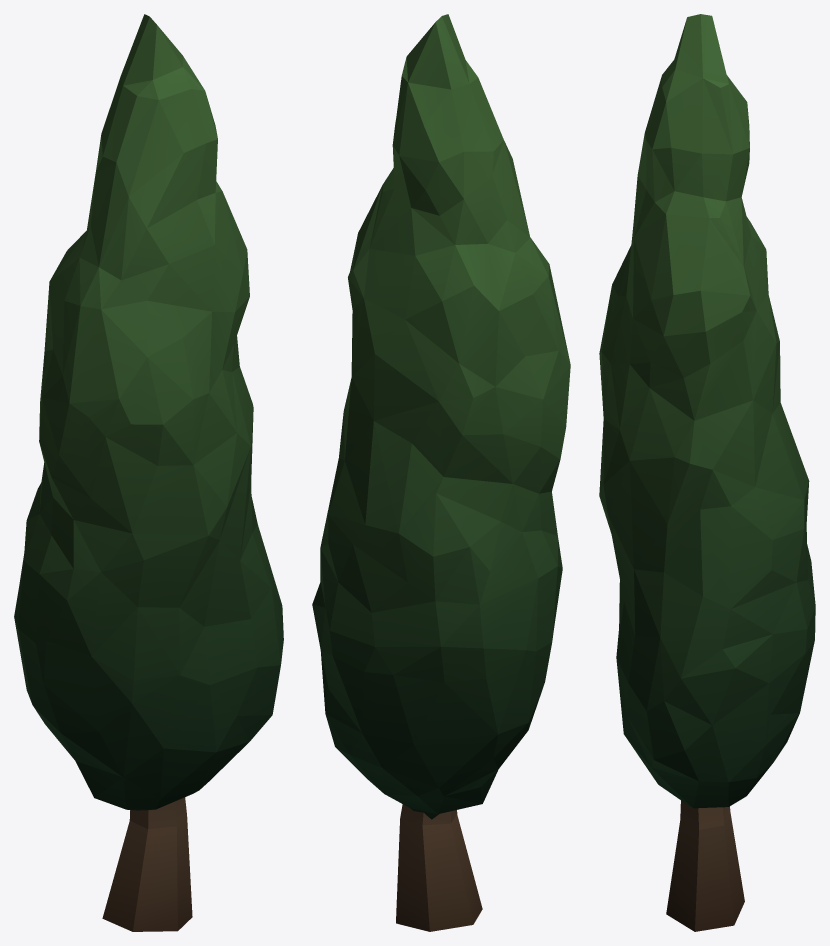
The model's file is cyprys_2.glb.
3 views of the same model, side by side, from view 1: azimuth 30°, elevation 25°; view 2: azimuth 150°, elevation 25°; view 3: azimuth 270°, elevation 25° (orthographic).
Visible parts, largest first — view 1: cyprys_2; view 2: cyprys_2; view 3: cyprys_2.
Part boxes in pixels (x1,y1,x2,y2): cyprys_2: (14, 14, 283, 931); cyprys_2: (312, 14, 570, 931); cyprys_2: (599, 14, 815, 931).
Bounding box in the file's own units: 0.627 × 2.3 × 0.5028.
